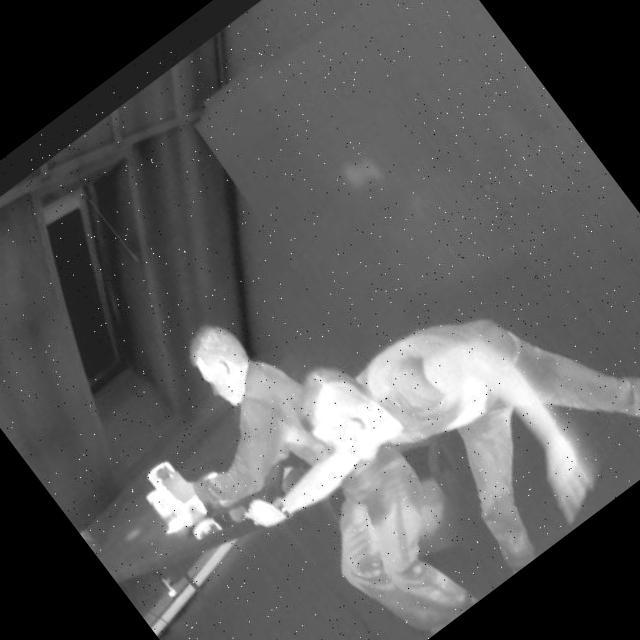person: (114, 251, 493, 640), (226, 218, 579, 617)
